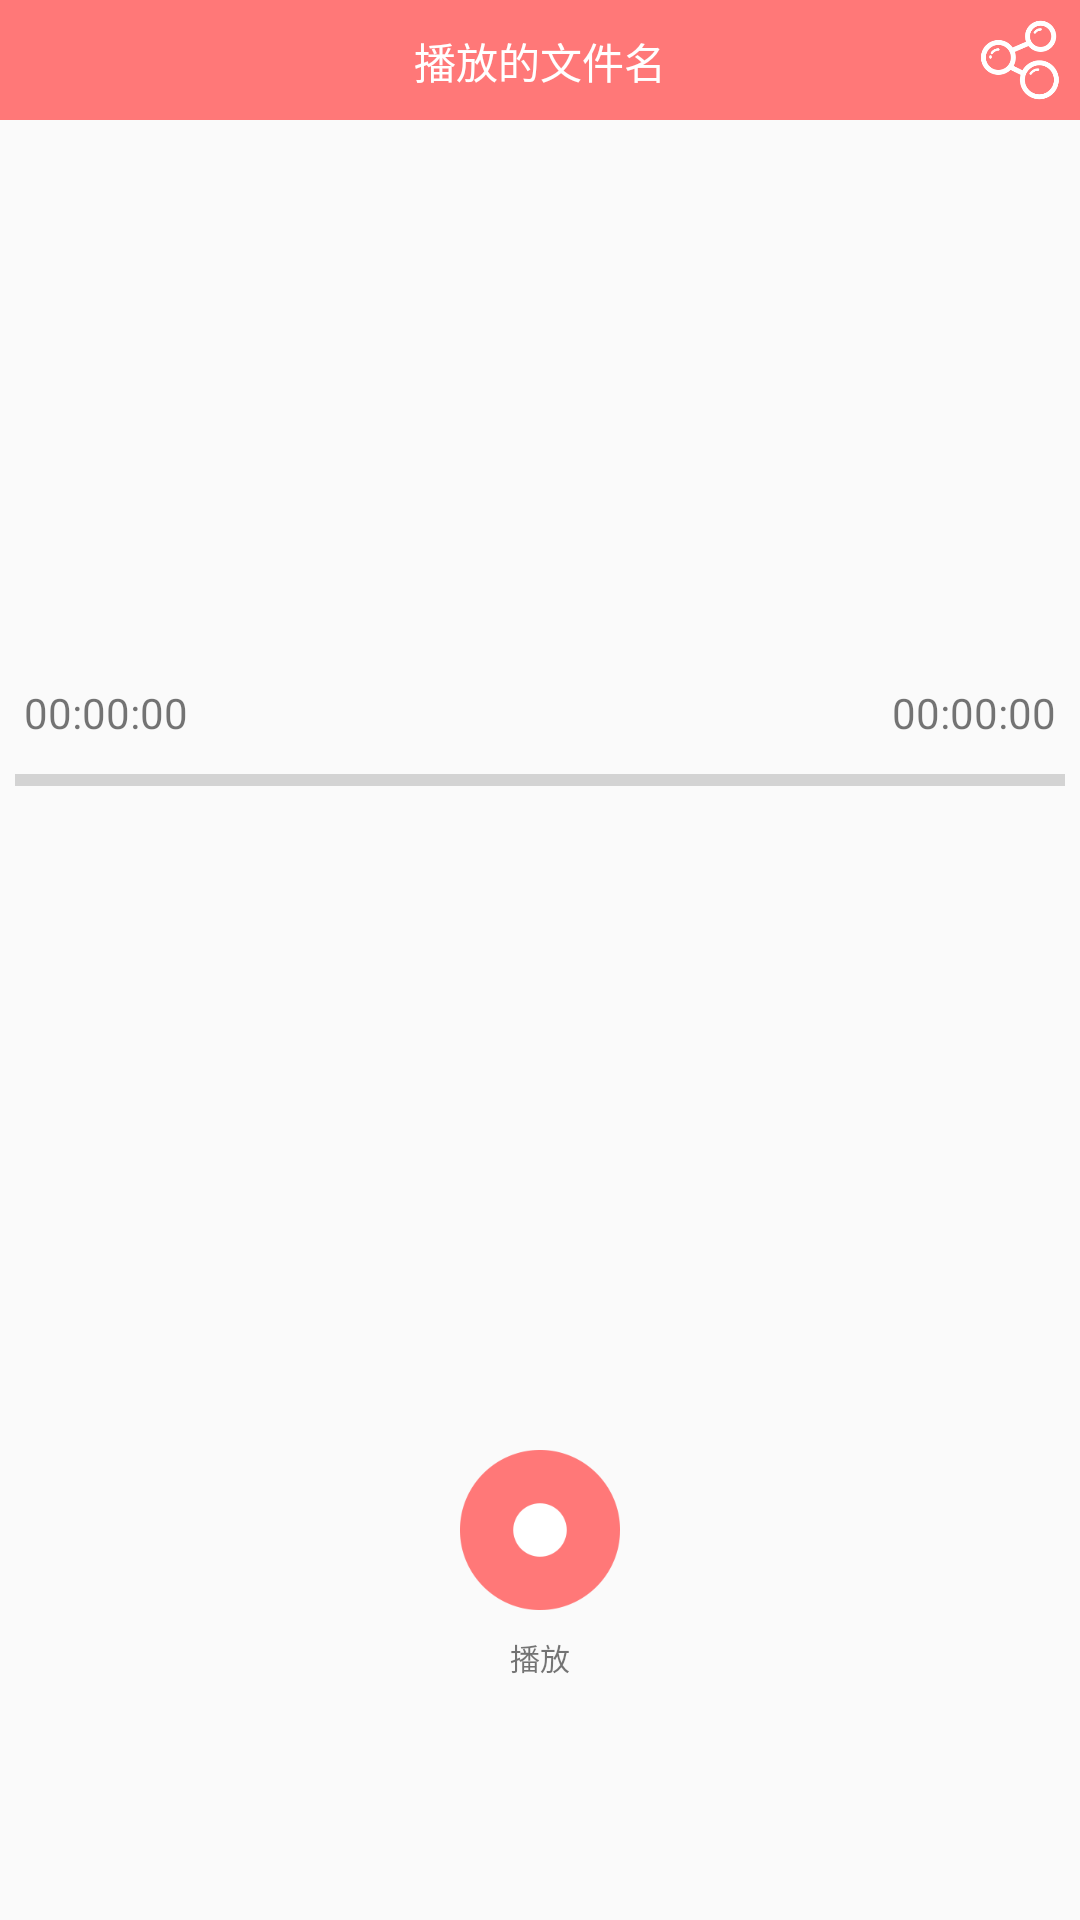

Point at icon controls on the screen. Image size 1080 × 1920, points as (x=x, y=y).
share: (x=1020, y=60)
